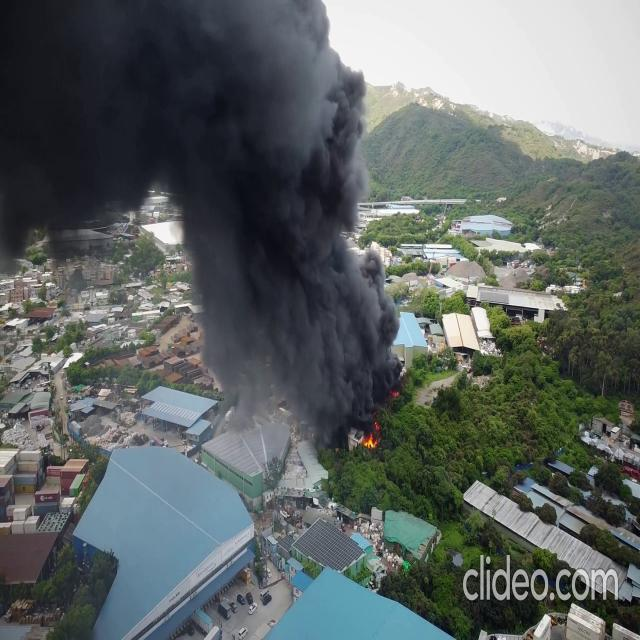Fire: (361, 430, 377, 454)
Smoke: (1, 1, 407, 428)
